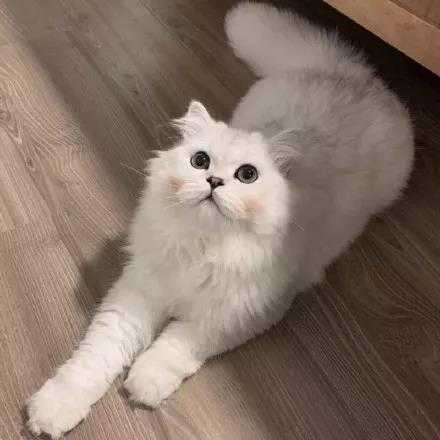cat: (140, 100, 286, 249)
